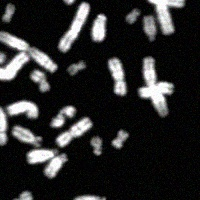chromosome: (0, 30, 57, 71), (59, 2, 90, 53), (143, 57, 168, 117), (57, 117, 93, 148), (0, 51, 31, 81), (108, 58, 126, 95), (155, 0, 174, 35), (6, 99, 37, 118), (139, 82, 174, 98), (11, 126, 40, 145), (27, 146, 57, 164), (44, 154, 67, 177), (51, 107, 75, 127), (92, 14, 106, 42), (32, 70, 49, 93), (138, 0, 185, 7), (112, 129, 128, 149), (144, 15, 155, 41), (1, 4, 16, 23), (67, 60, 84, 76), (3, 191, 32, 200), (126, 8, 140, 23), (0, 106, 5, 146), (90, 138, 101, 156), (74, 196, 107, 200), (63, 0, 98, 3), (0, 49, 5, 63)
